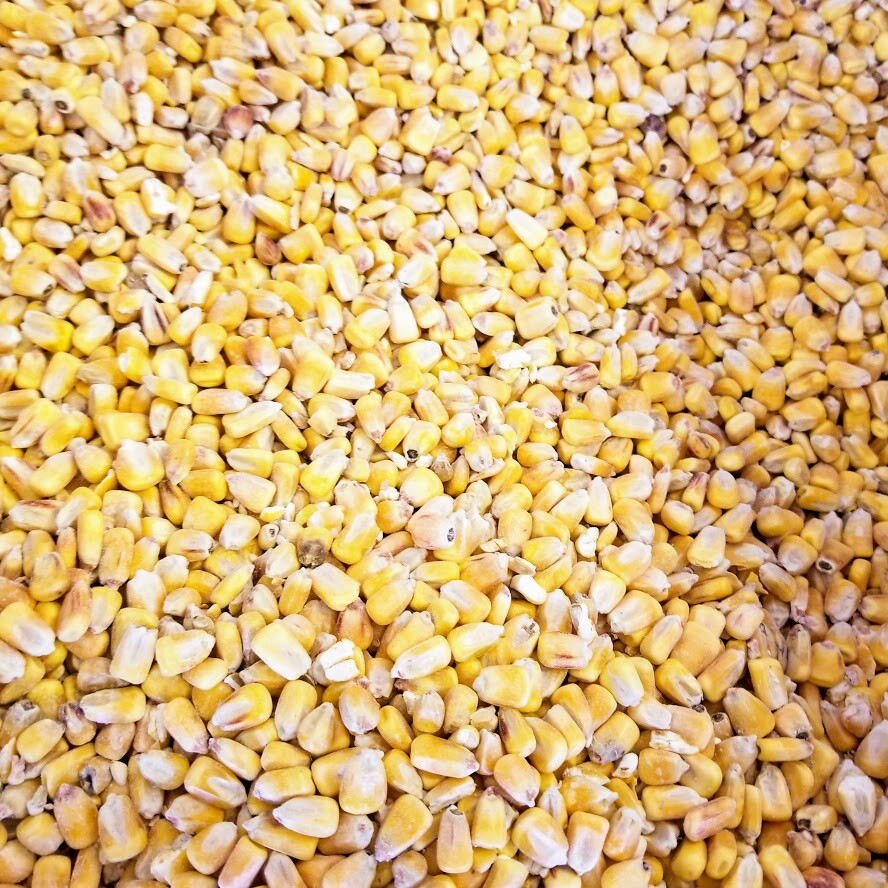seed: (4, 1, 888, 887)
